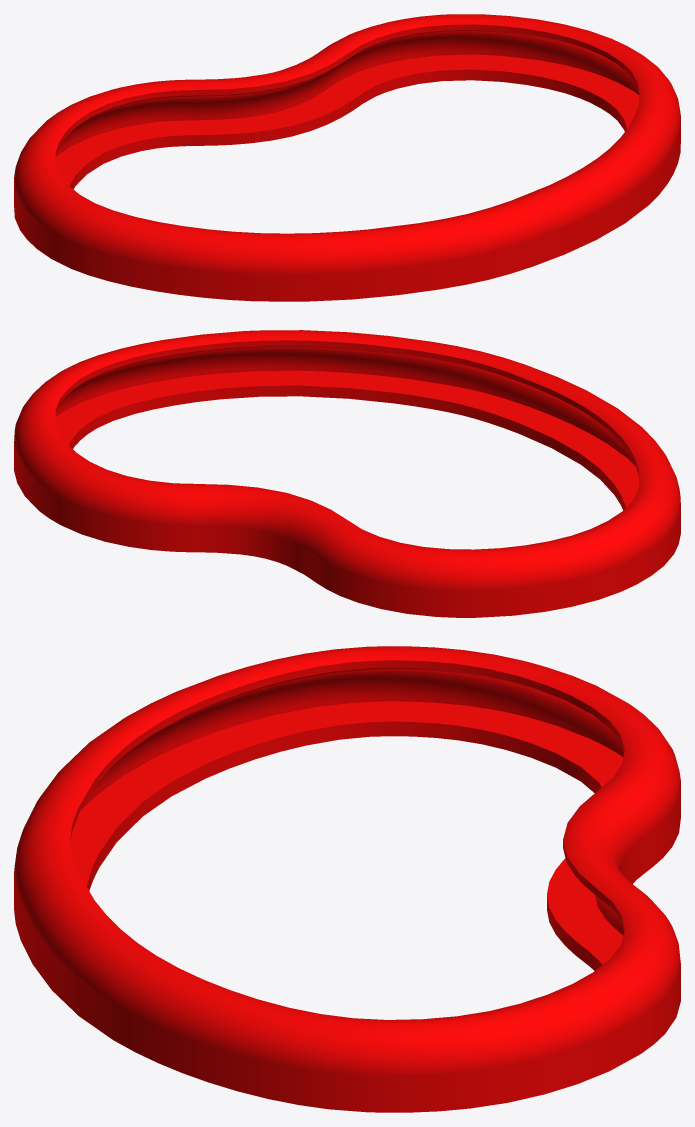
Rendered from pads-holder.fbx.
3 renders of one model, top to bottom at view 1: azimuth 30°, elevation 25°; view 2: azimuth 150°, elevation 25°; view 3: azimuth 270°, elevation 25°, orthographic. The views are drawn at different scales.
Parts seen in each view (by area): view 1: pads-holder; view 2: pads-holder; view 3: pads-holder.
Boxes of the visible parts, bbox=[...] form: pads-holder: bbox=[14, 14, 680, 301]; pads-holder: bbox=[14, 330, 680, 617]; pads-holder: bbox=[14, 646, 680, 1112].
Size of the model in its own units: 120 by 10 by 83.04.
